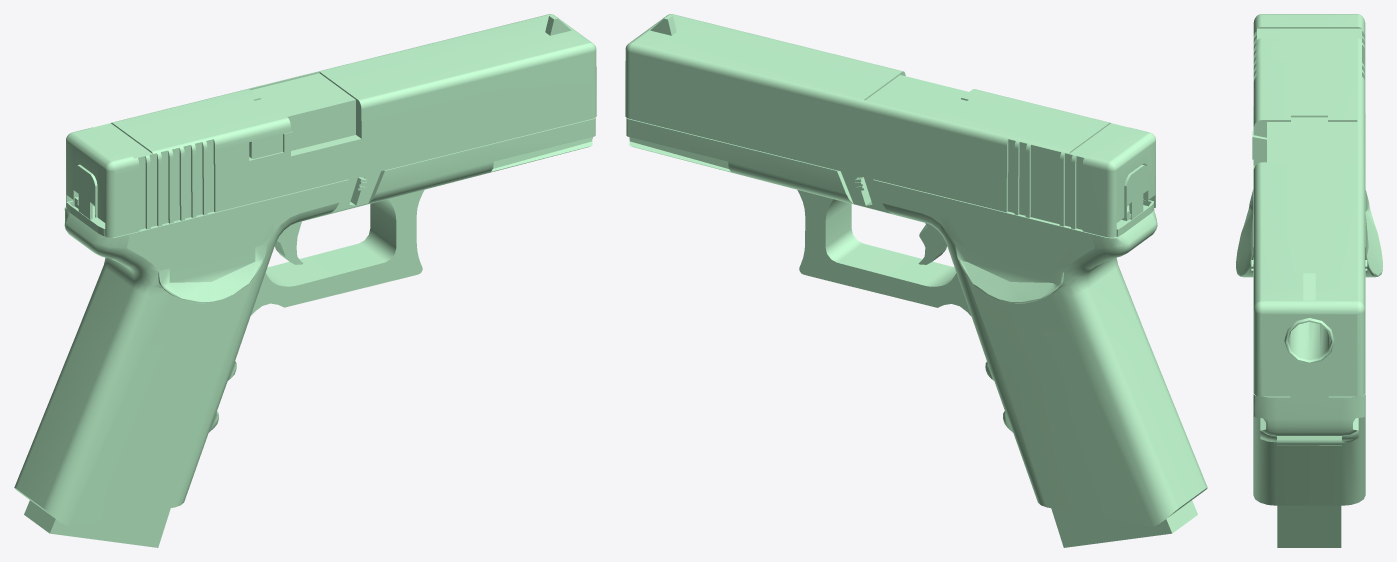
The model's file is Glock_Cazius.fbx.
3 renders of one model, left to right at view 1: azimuth 30°, elevation 25°; view 2: azimuth 150°, elevation 25°; view 3: azimuth 270°, elevation 25°, orthographic. The views are drawn at different scales.
Parts seen in each view (by area): view 1: polySurface1; view 2: polySurface1; view 3: polySurface1.
Part boxes in pixels (x1,y1,x2,y2): polySurface1: [14, 14, 596, 547]; polySurface1: [625, 14, 1207, 547]; polySurface1: [1236, 14, 1382, 547].
Size of the model in its own units: 2.3 by 1.69 by 0.4299.
